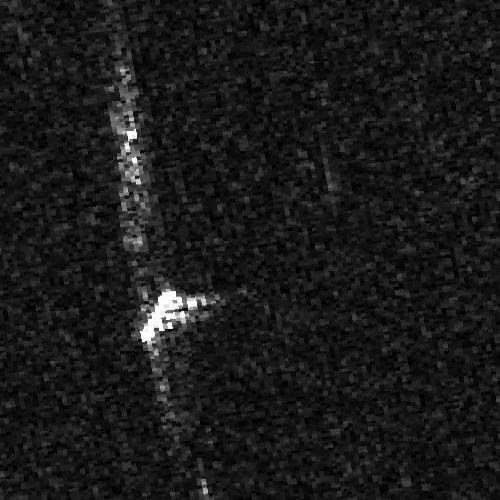ship: (139, 289, 185, 344)
